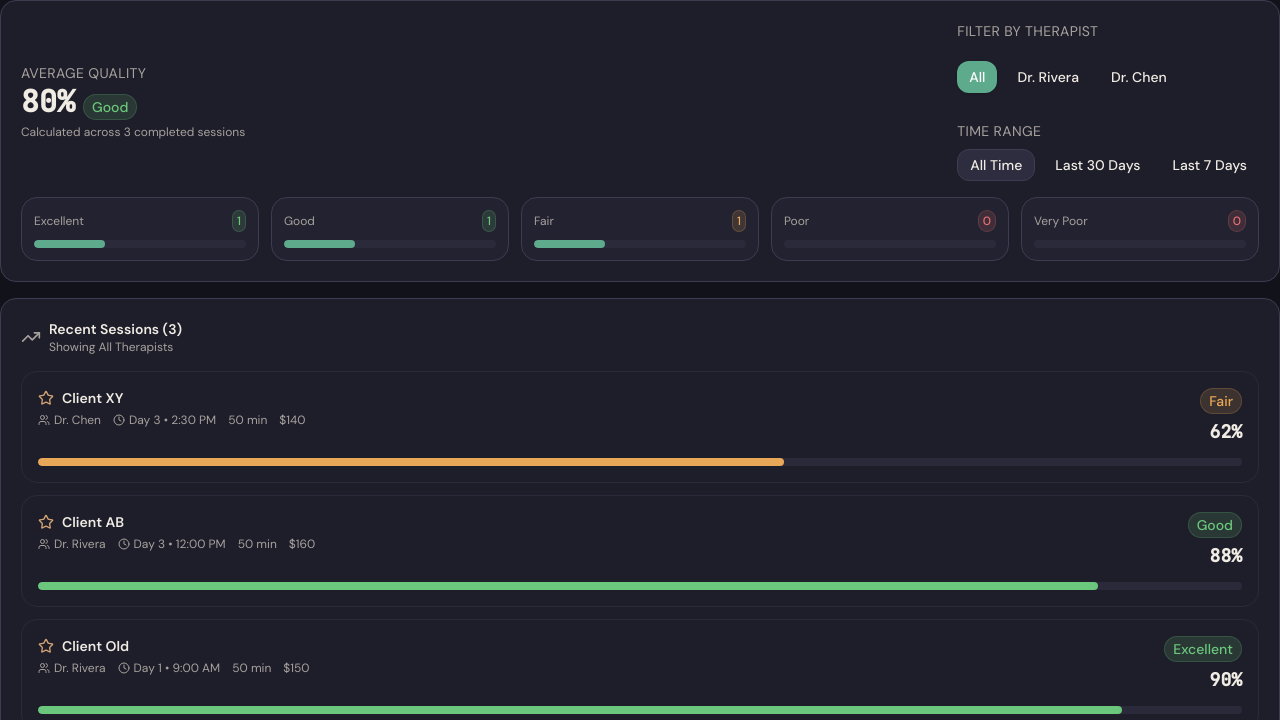
Test case: SessionHistoryPanel › time range filtering › filters sessions by time range
Check: the text "Client Old" is shown, box left=62, top=636, right=129, bottom=656
Click the button "Last 30 Days". click: click(1098, 165)
box: left=1043, top=149, right=1152, bottom=181
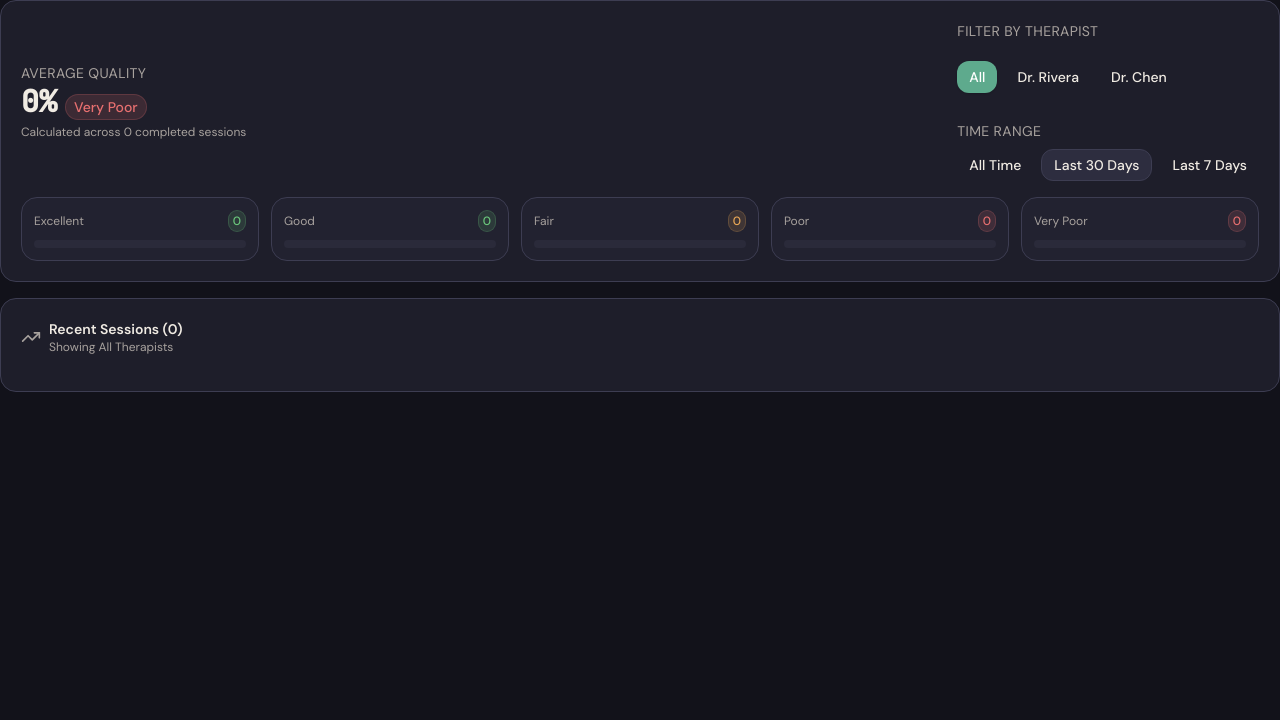
Check: the text "Client Old" is gone
